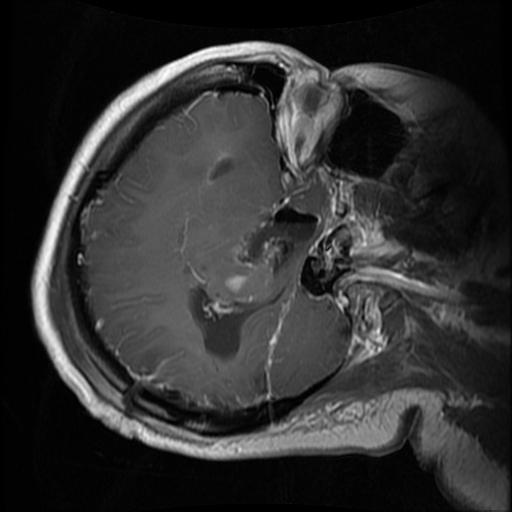glioma: (186, 281, 284, 364)
